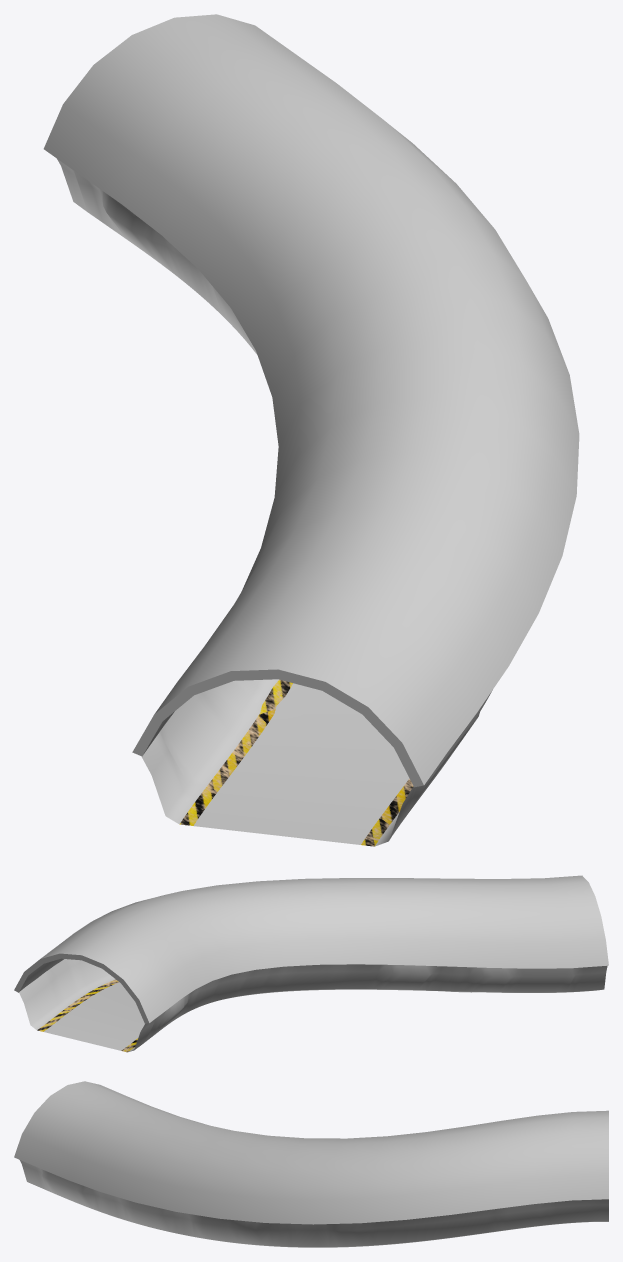
The model's file is tunnel2_Chunk.fbx.
3 views of the same model, one above another, from view 1: azimuth 30°, elevation 25°; view 2: azimuth 150°, elevation 25°; view 3: azimuth 270°, elevation 25° (orthographic). The views are drawn at different scales.
Parts seen in each view (by area): view 1: tunnel2_Chunk; view 2: tunnel2_Chunk; view 3: tunnel2_Chunk.
Boxes of the visible parts, x1,y1,x2,y2 form: tunnel2_Chunk: (43, 14, 579, 846); tunnel2_Chunk: (14, 875, 608, 1052); tunnel2_Chunk: (14, 1081, 608, 1247).
Bounding box in the file's own units: 108 × 48.1 × 165.
